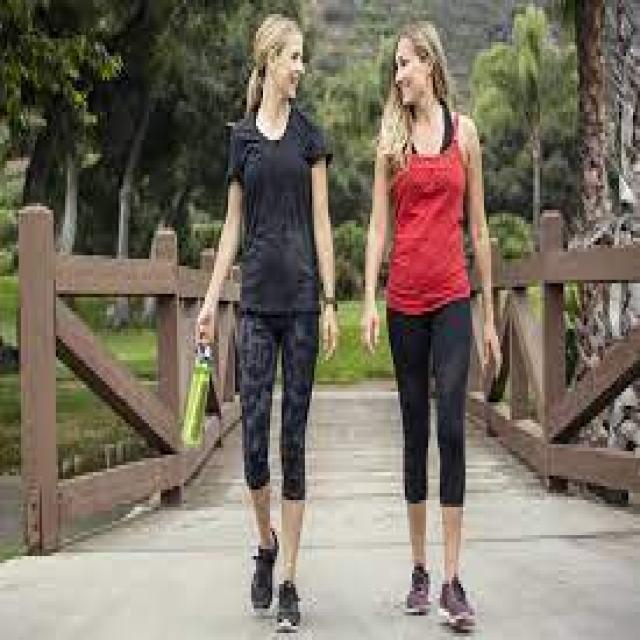Person: (182, 14, 340, 632), (362, 20, 501, 630)
